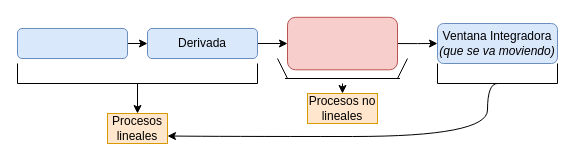
The diagram is 576 pixels wide and 162 high, and some of its shapes have lost their labels. Here are the shapes that lost their labels. From the top down, the centre of each, then its label:
At pixel 72 43: "Filtro pasabandas".
At pixel 342 43: "Elevar al cuadrado la amplitud de la señal".
